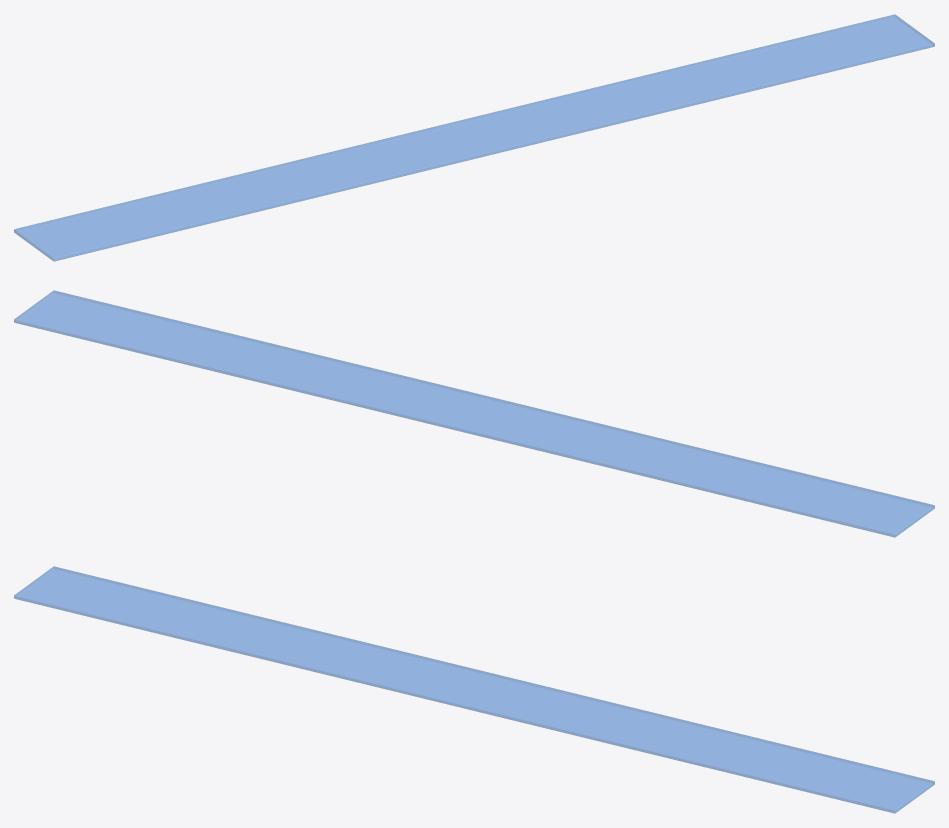
Rendered from shelf.glb.
3 views of the same model, one above another, from view 1: azimuth 30°, elevation 25°; view 2: azimuth 150°, elevation 25°; view 3: azimuth 330°, elevation 25° (orthographic).
Parts seen in each view (by area): view 1: pCube2.003; view 2: pCube2.003; view 3: pCube2.003.
Part boxes in pixels (box(x1,y1,x2,y2)): pCube2.003: box(14, 14, 934, 261); pCube2.003: box(14, 290, 934, 537); pCube2.003: box(14, 566, 934, 813).
Size of the model in its own units: 8.21 by 0.0337 by 0.646.
